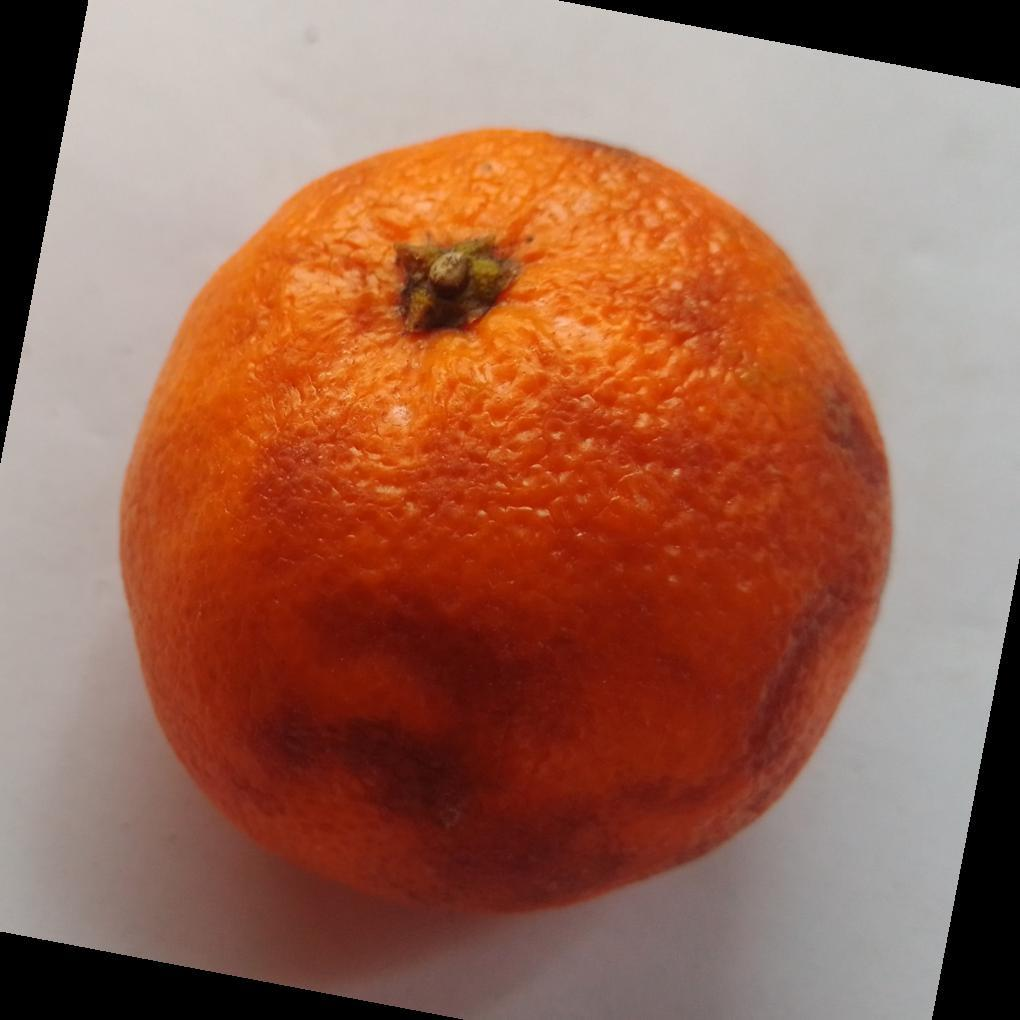FreshOrange: (116, 129, 895, 920)
